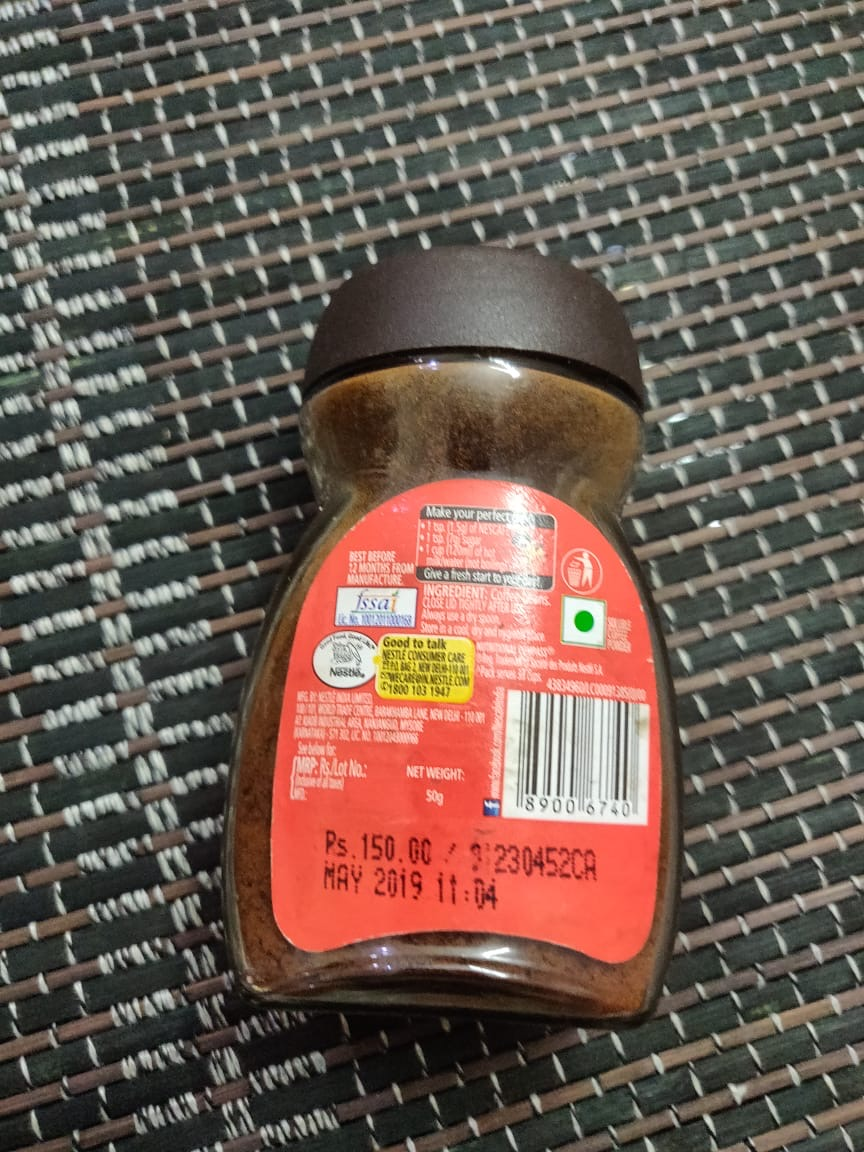barcode: (503, 687, 651, 830)
